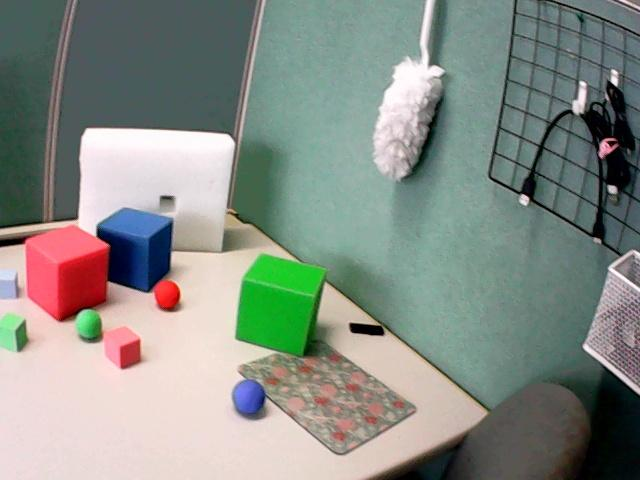blue_block: (97, 208, 172, 291), (0, 269, 17, 298)
red_block: (25, 225, 109, 319), (103, 326, 140, 367)
